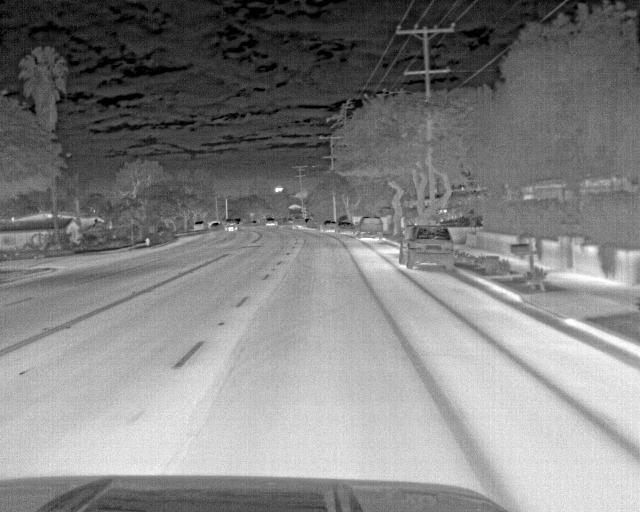car: (398, 223, 458, 274), (353, 213, 386, 241), (337, 219, 355, 236), (319, 219, 338, 233), (223, 219, 240, 233), (192, 219, 208, 232), (264, 214, 279, 227)
